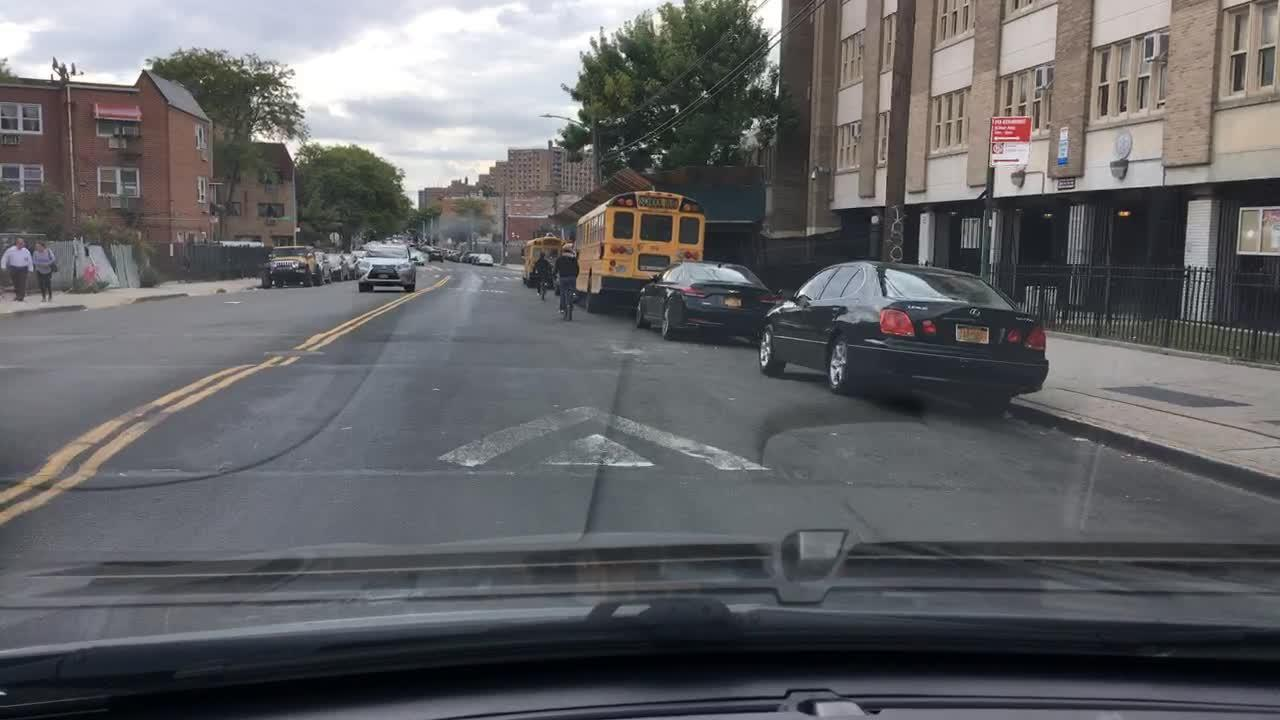lexus: (967, 303, 985, 321)
